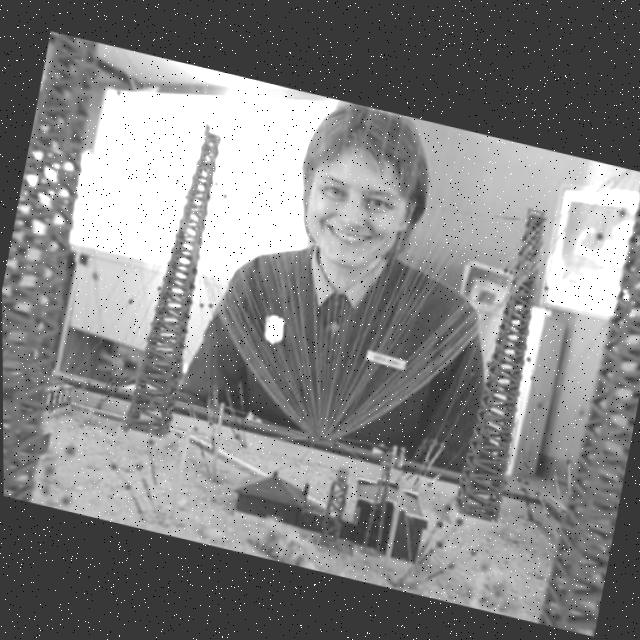face: (298, 133, 418, 282)
